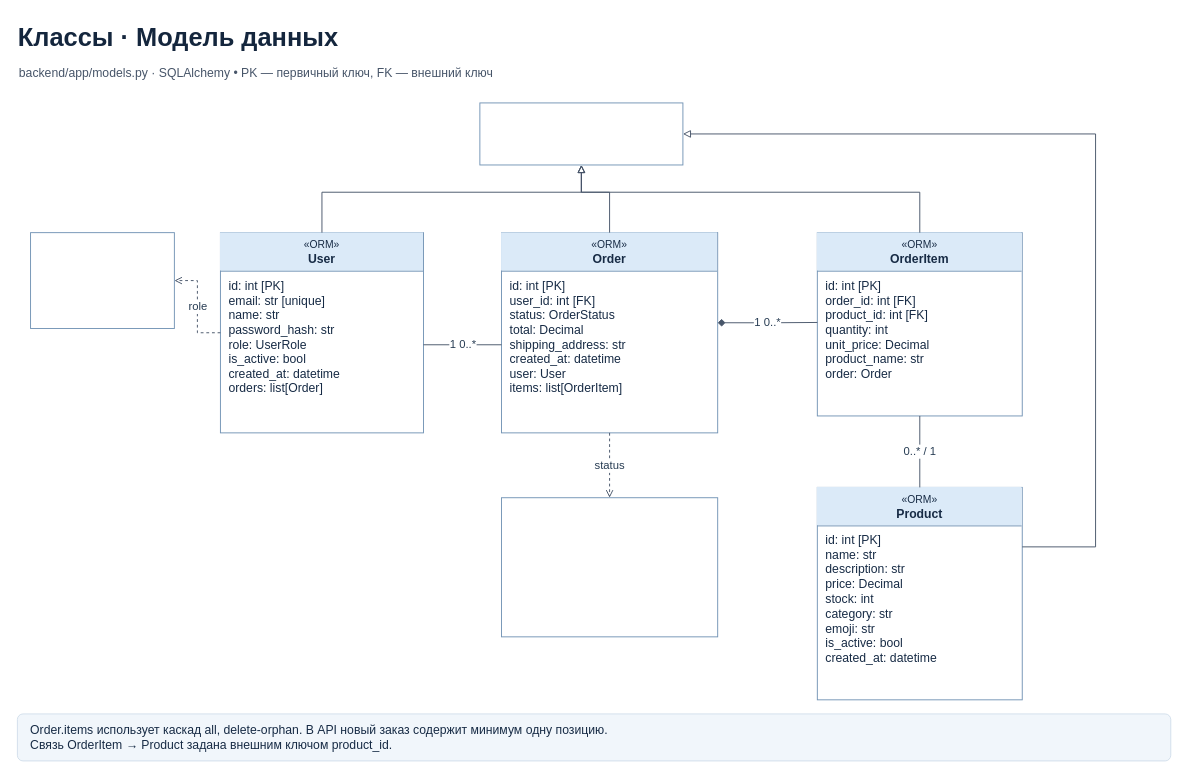
Image size: 1194x777. Some labels were removed from this diagram. The centre of each missing label's shape, as x and y in pixels:
«enum» OrderStatus new paid shipped completed cancelled: the point at 609,567
«enum» UserRole customer admin: the point at 102,280
«базовый класс» Base Наследует DeclarativeBase: the point at 581,133
